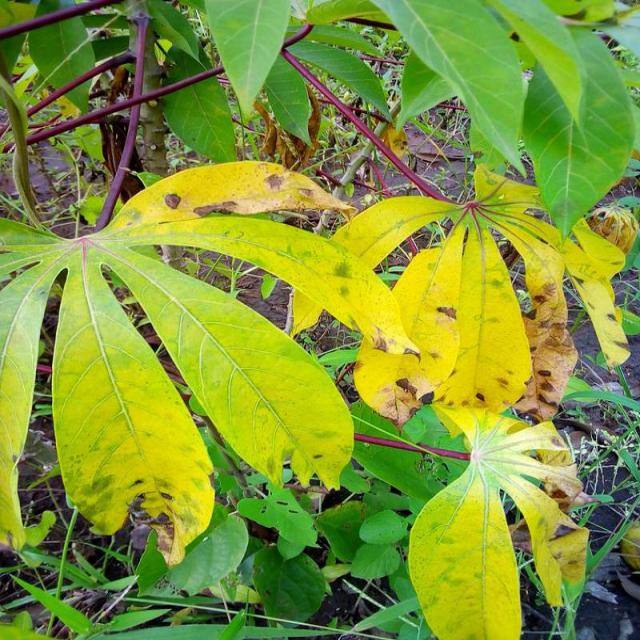cassava leaf: (51, 241, 217, 566), (405, 402, 589, 638)
